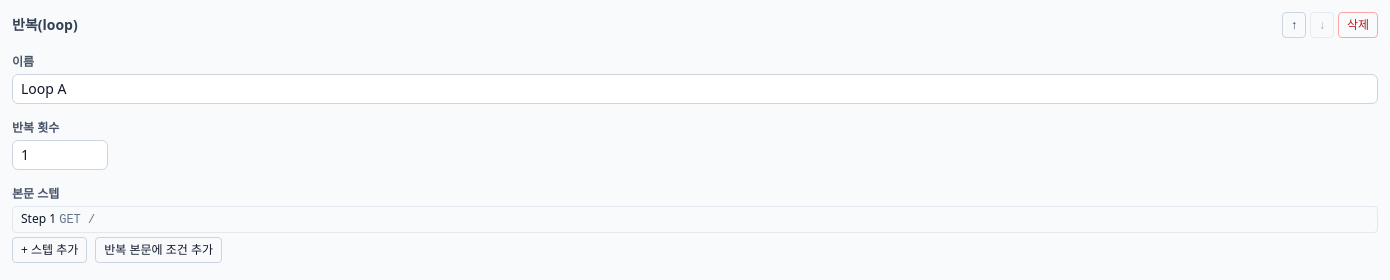
Test: Inspector — move up/down (container steps) › reorders a top-level loop among its siblings via Move up
Expected: the button titled "아래로" is disabled, [1310, 12, 1334, 38]
Click the button titled "위로".
click(1294, 25)  # box [1282, 12, 1306, 38]
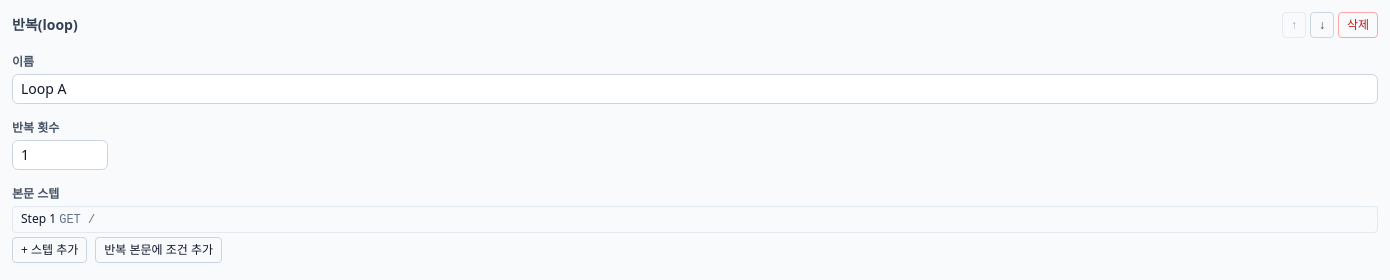
Expected: the button titled "위로" is disabled, [1282, 12, 1306, 38]
